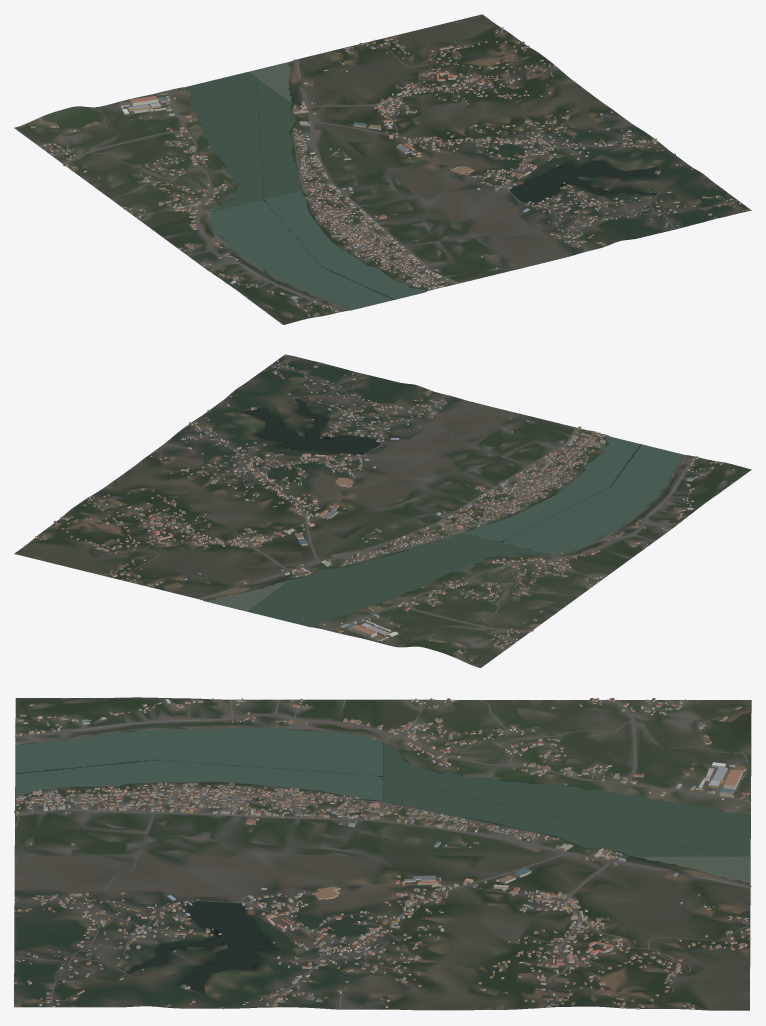
3 renders of one model, top to bottom at view 1: azimuth 30°, elevation 25°; view 2: azimuth 150°, elevation 25°; view 3: azimuth 270°, elevation 25°, orthographic. The views are drawn at different scales.
Visible parts, largest first — view 1: ground, water, buildings, roads; view 2: ground, water, buildings, roads; view 3: ground, water, buildings, roads.
Part boxes in pixels (<box>): ground: <box>14,14,751,324</box>; water: <box>186,61,657,310</box>; buildings: <box>30,27,741,317</box>; roads: <box>41,40,736,316</box>; ground: <box>14,354,751,667</box>; water: <box>205,398,683,626</box>; buildings: <box>35,360,734,661</box>; roads: <box>55,364,695,652</box>; ground: <box>14,697,751,1010</box>; water: <box>15,726,750,990</box>; buildings: <box>14,698,751,1009</box>; roads: <box>14,699,751,1009</box>.
Size of the model in its own units: 2814 by 46.38 by 2811.
